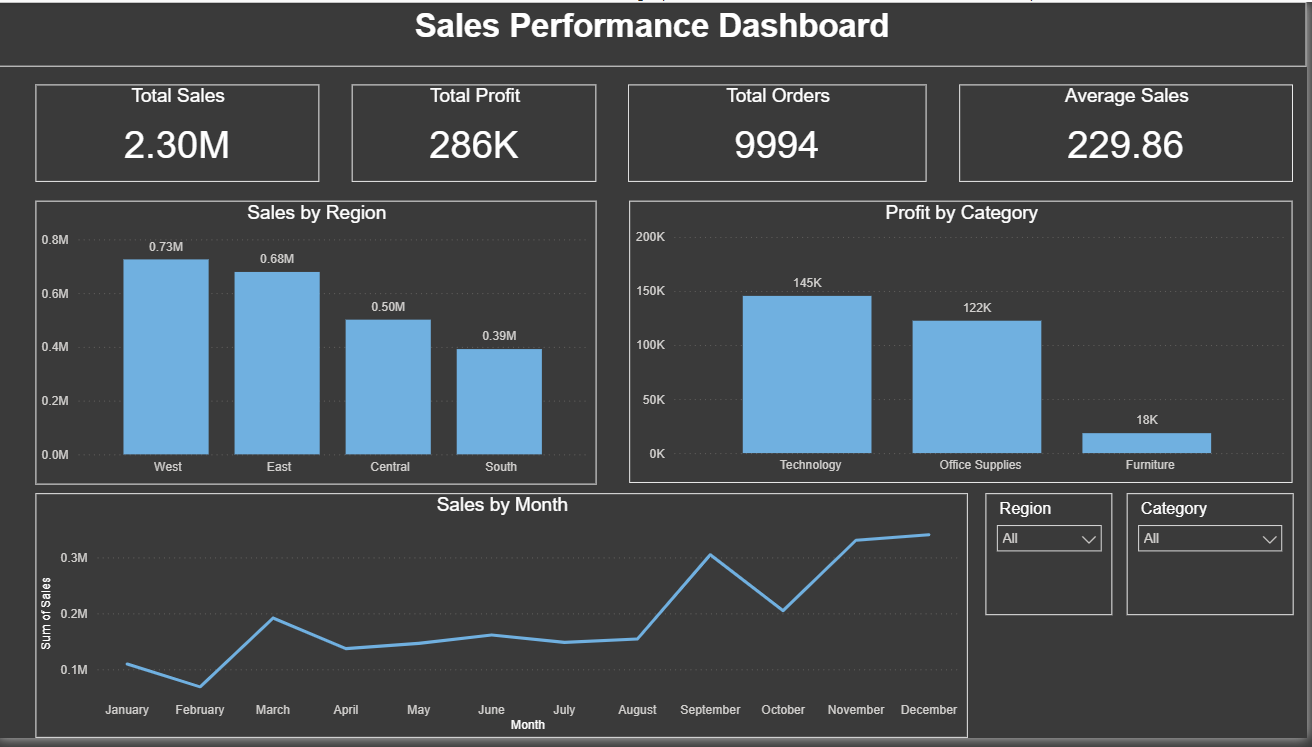

The page's visual inventory and layout, read from the dashboard file:
{"tool":"powerbi","page":{"name":"Page 1","canvas":[1280,720],"ordinal":0},"visuals":[{"type":"card","title":"Total Sales","fields":{"Values":["Sum(Sample - Superstore.Sales)"]},"box":[36.7,80.7,277.5,95.3],"z":0},{"type":"textbox","box":[0,0,1279.9,63.6],"z":1000},{"type":"card","title":"Total Profit","fields":{"Values":["Sum(Sample - Superstore.Profit)"]},"box":[345.5,80.7,239.6,95.3],"z":2000},{"type":"card","title":"Total Orders","fields":{"Values":["CountNonNull(Sample - Superstore.Order ID)"]},"box":[616.5,80.7,292.2,95.3],"z":3000},{"type":"card","title":"Average Sales","fields":{"Values":["Avg(Sample - Superstore.Sales)"]},"box":[940,80.7,326.4,95.3],"z":4000},{"type":"clusteredColumnChart","title":"Sales by Region","fields":{"Category":["Sample - Superstore.Region"],"Y":["Sum(Sample - Superstore.Sales)"]},"box":[36.7,194.4,548.9,277.5],"z":5000},{"type":"clusteredColumnChart","title":"Profit by Category","fields":{"Category":["Sample - Superstore.Category"],"Y":["Sum(Sample - Superstore.Profit)"]},"box":[617.3,194.4,649.1,276.3],"z":6000},{"type":"lineChart","title":"Sales by Month","fields":{"Y":["Sum(Sample - Superstore.Sales)"],"Category":["Sample - Superstore.Ship Date.Variation.Date Hierarchy.Month"]},"box":[36.7,480.4,911.9,239.6],"z":7000},{"type":"slicer","fields":{"Values":["Sample - Superstore.Region"]},"box":[966.4,480.2,124.3,119.4],"z":8000},{"type":"slicer","fields":{"Values":["Sample - Superstore.Category"]},"box":[1103.9,480.2,162.9,119.4],"z":9000}]}

Visuals, with their boxes in screenshot pixels (x1, y1, x2, y2), scaled from the page's 1280x720 canvas onto the 1312x747 screenshot:
"Total Sales" card: bbox=[38, 84, 322, 183]
textbox: bbox=[0, 0, 1311, 66]
"Total Profit" card: bbox=[354, 84, 600, 183]
"Total Orders" card: bbox=[632, 84, 931, 183]
"Average Sales" card: bbox=[963, 84, 1298, 183]
"Sales by Region" clusteredColumnChart: bbox=[38, 202, 600, 490]
"Profit by Category" clusteredColumnChart: bbox=[633, 202, 1298, 488]
"Sales by Month" lineChart: bbox=[38, 498, 972, 746]
slicer - Sample - Superstore.Region: bbox=[991, 498, 1118, 622]
slicer - Sample - Superstore.Category: bbox=[1131, 498, 1298, 622]
